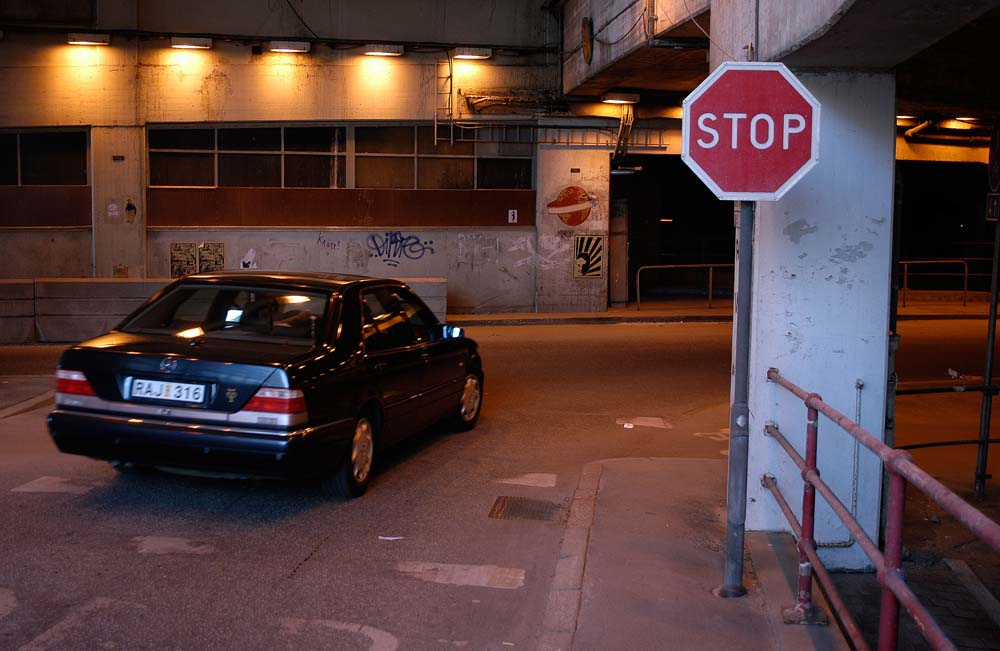stop: (679, 63, 819, 203)
